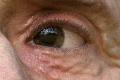eye: (36, 26, 62, 47)
